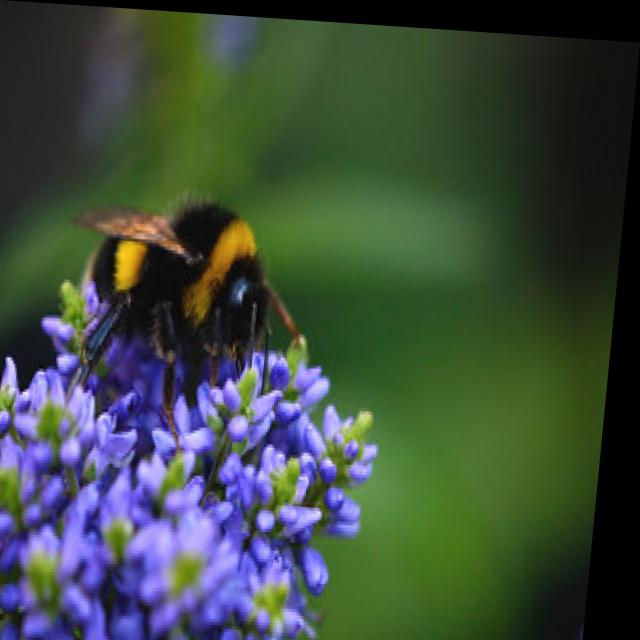Abeille: (57, 147, 354, 448)
